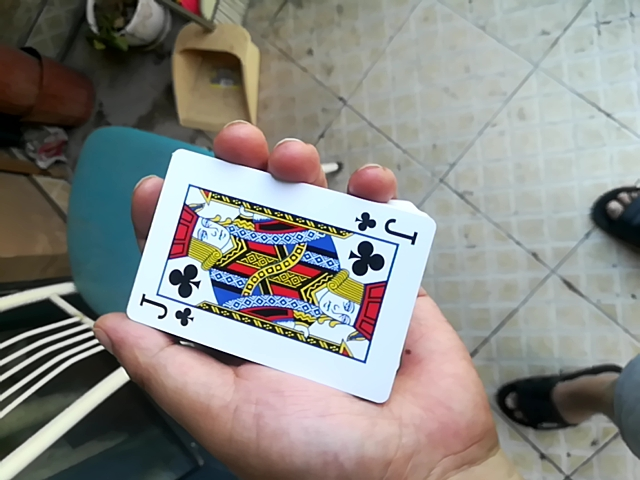mh j: (132, 148, 435, 401)
